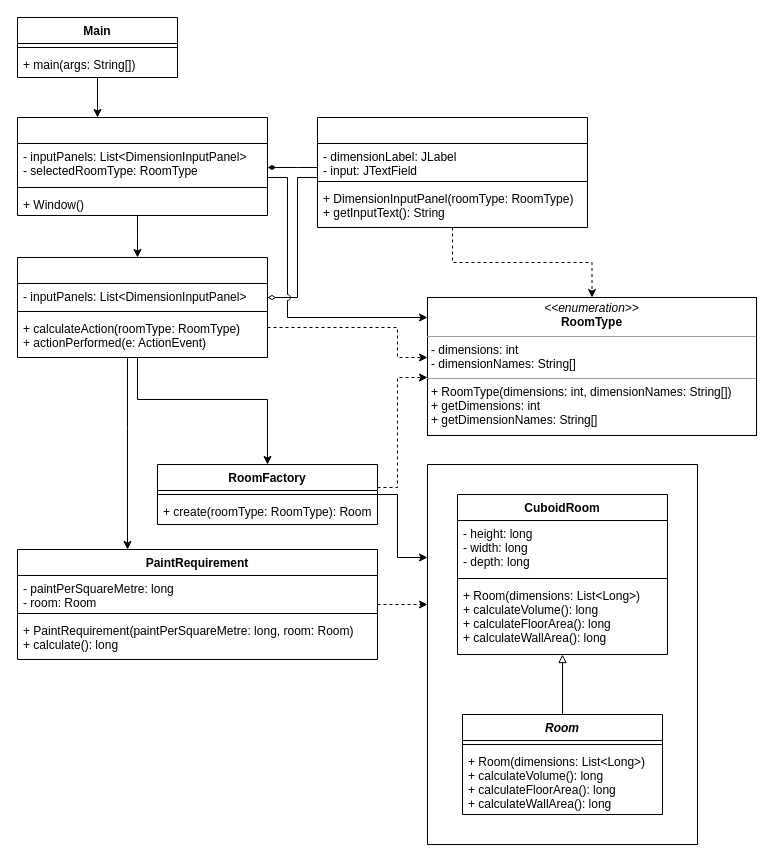
This 774x862 diagram has some shape labels left out. The shapes that lost their labels are listed below. From the top down, each one's box as (x1, y1, x2, y2) in pixels, then its label:
(16, 116, 268, 216): Window: JFrame
(316, 116, 588, 228): DimensionInputPanel : JPanel
(16, 256, 268, 358): CalculateAction : Action
